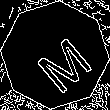M_NW: (21, 20, 89, 90)
